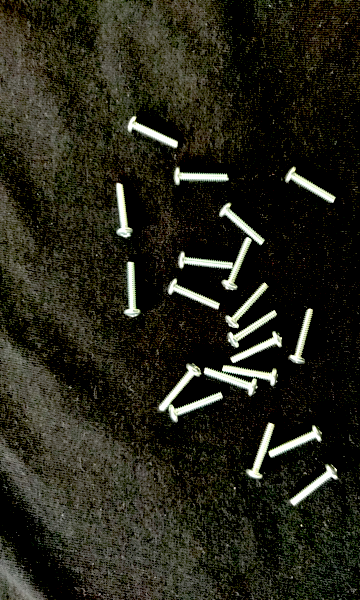longscrew: (222, 202, 269, 248), (285, 163, 336, 205), (126, 112, 182, 150), (228, 312, 278, 352), (225, 284, 272, 326), (158, 364, 200, 411), (167, 277, 225, 311), (223, 237, 256, 289), (170, 393, 223, 425), (287, 308, 315, 364), (205, 368, 256, 398), (232, 334, 281, 365), (249, 425, 272, 478), (223, 366, 281, 386), (124, 262, 142, 320), (116, 179, 133, 237), (179, 254, 235, 271), (172, 170, 229, 184)
